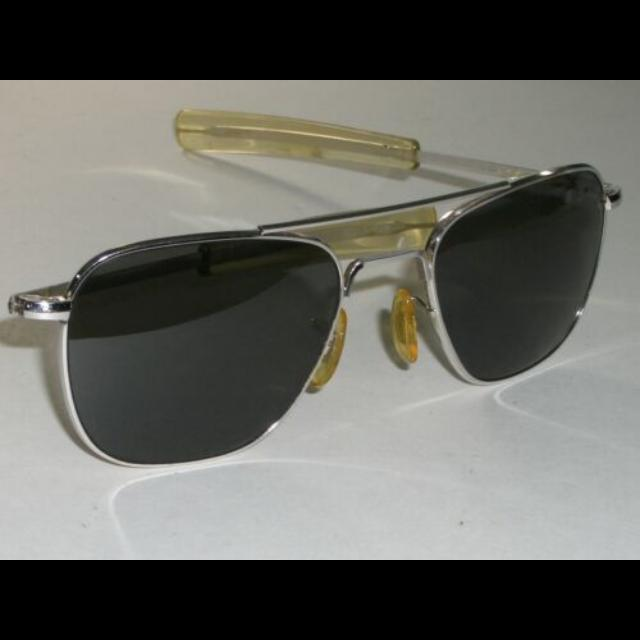glasses: (19, 104, 614, 470)
